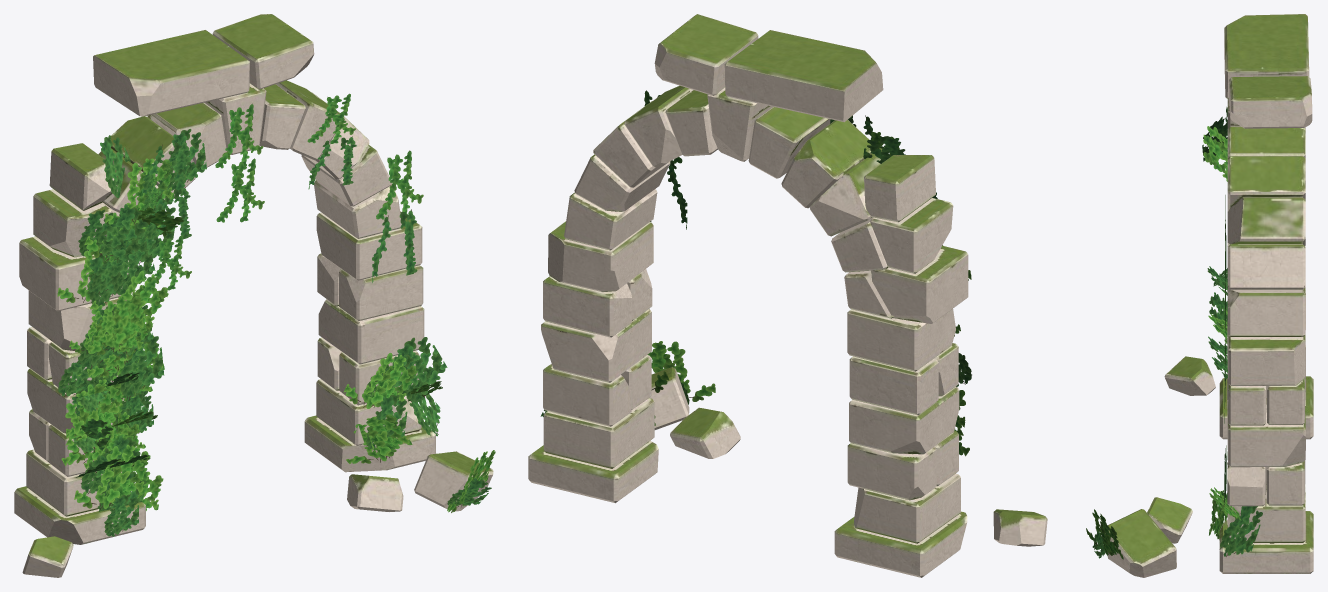
The model's file is bogen.glb.
3 views of the same model, side by side, from view 1: azimuth 30°, elevation 25°; view 2: azimuth 150°, elevation 25°; view 3: azimuth 270°, elevation 25° (orthographic). The views are drawn at different scales.
Visible parts, largest first — view 1: bogen; view 2: bogen; view 3: bogen.
Boxes of the visible parts, <box> form: bogen: <box>14,14,495,577</box>; bogen: <box>528,14,1047,577</box>; bogen: <box>1086,14,1313,577</box>.
Size of the model in its own units: 6.11 by 5.7 by 2.9.
2 materials, 2 textured.
